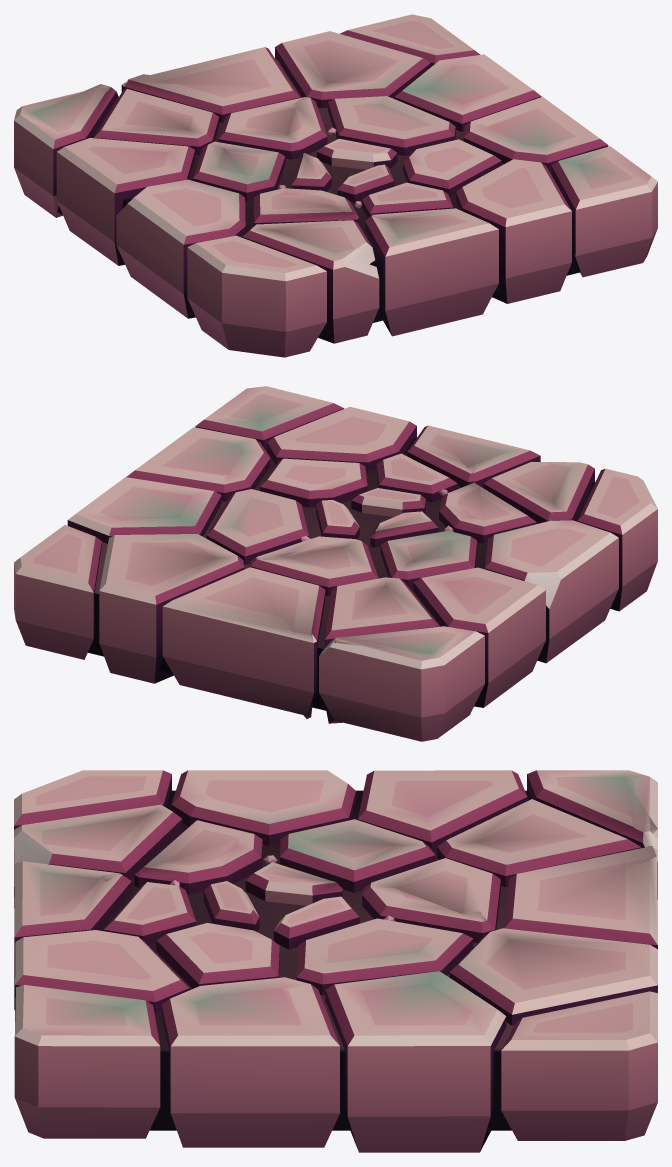
File: crumble_underwater.glb
3 renders of one model, top to bottom at view 1: azimuth 30°, elevation 25°; view 2: azimuth 150°, elevation 25°; view 3: azimuth 270°, elevation 25°, orthographic. The views are drawn at different scales.
Parts seen in each view (by area): view 1: crumble_underwater; view 2: crumble_underwater; view 3: crumble_underwater.
Part boxes in pixels (bbox=[...]): crumble_underwater: bbox=[14, 14, 657, 357]; crumble_underwater: bbox=[14, 386, 657, 741]; crumble_underwater: bbox=[14, 770, 657, 1152].
Size of the model in its own units: 2.4 by 0.5 by 2.4.
